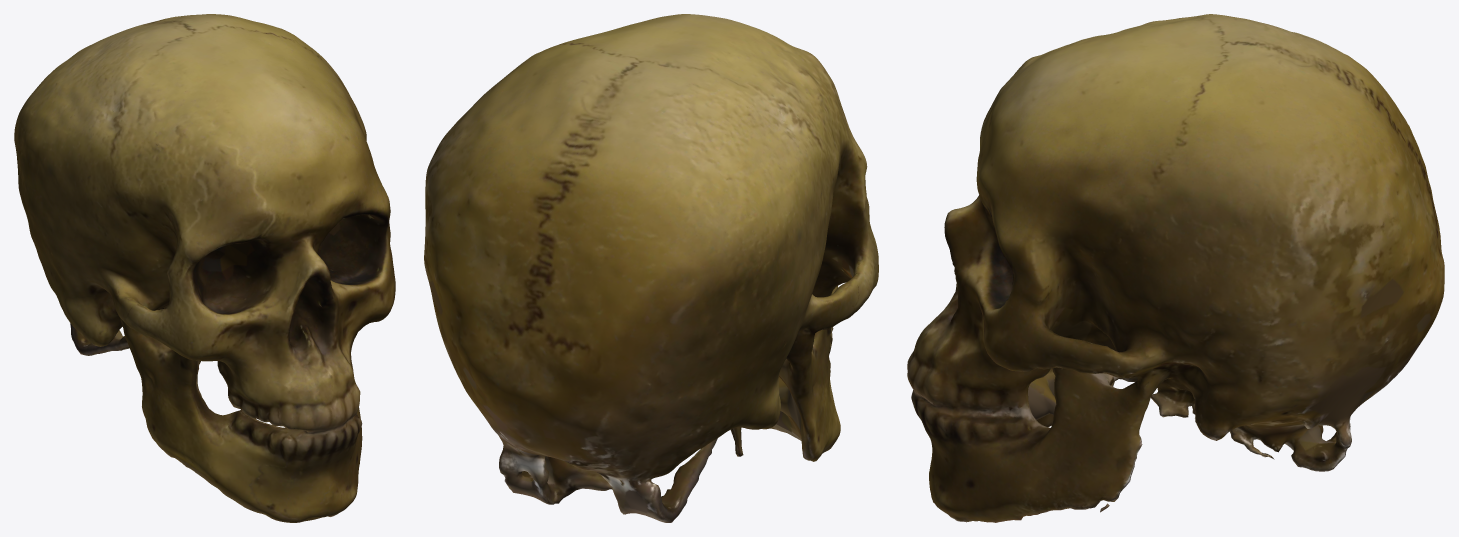
The model's file is skull.glb.
3 renders of one model, left to right at view 1: azimuth 30°, elevation 25°; view 2: azimuth 150°, elevation 25°; view 3: azimuth 270°, elevation 25°, orthographic. The views are drawn at different scales.
Visible parts, largest first — view 1: Mesh_0_Part_lp; view 2: Mesh_0_Part_lp; view 3: Mesh_0_Part_lp.
Part boxes in pixels (x1,y1,x2,y2): Mesh_0_Part_lp: (14,14,395,522); Mesh_0_Part_lp: (424,14,878,522); Mesh_0_Part_lp: (907,14,1444,522).
Bounding box in the file's own units: 12.59 × 16.62 × 17.56.
Materials: 1 (1 with a texture image).
